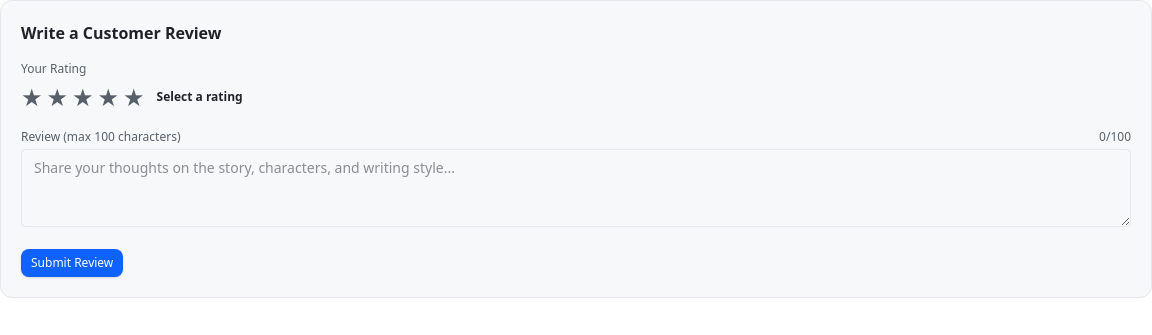
ReviewFormTest › ratingRequired: a review without a rating is blocked with a field message
The image size is (1152, 335).
Type "Great read" into the text box with placeholder "Share your thoughts" at (576, 188), box [21,149,1131,227]
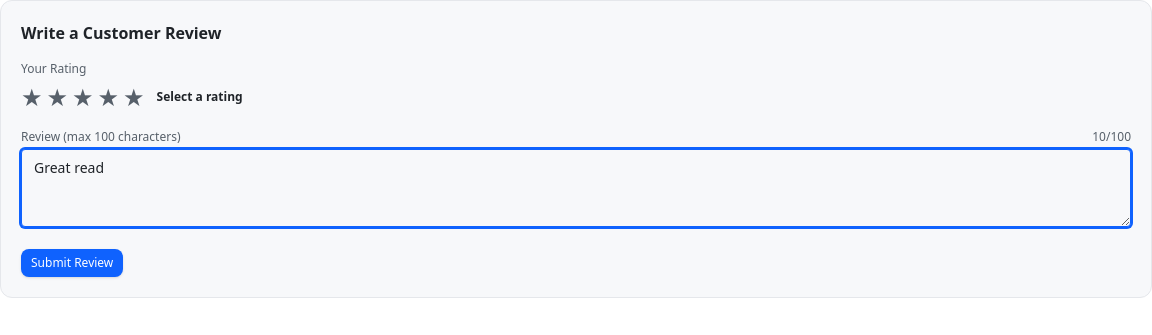
Click the button "Submit Review" at (72, 263), box [21,249,123,277]
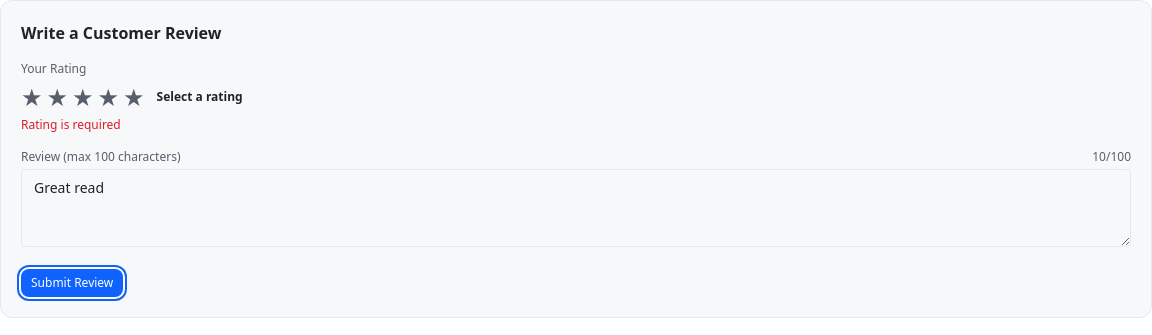
expect the text "Rating is required" is shown: met, box [21,116,121,133]
